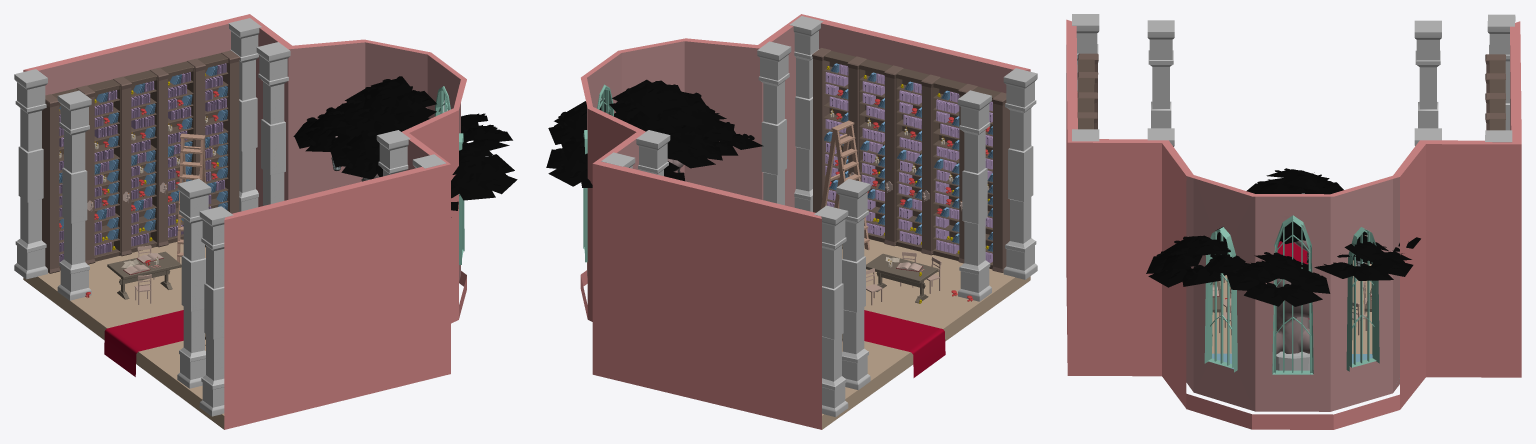
Rendered from library scene.fbx.
3 renders of one model, left to right at view 1: azimuth 30°, elevation 25°; view 2: azimuth 150°, elevation 25°; view 3: azimuth 270°, elevation 25°, orthographic. The views are drawn at different scales.
Visible parts, largest first — view 1: pasted__polySurface77 pasted__polySurface75 pasted__room pas, polySurface1750, Msh_Bookshelf_Left_Msh_Bookshelf1_polySurface1262_polySurfac, polySurface2172, polySurface2168, pPlane29, Floor1, pCube373 polySurface512, polySurface2026 polySurface1825 polySurface374, polySurface1311, polySurface66; view 2: pasted__polySurface77 pasted__polySurface75 pasted__room pas, polySurface1750, Msh_Bookshelf_Left_Msh_Bookshelf1_polySurface1262_polySurfac, polySurface2172, polySurface2168, pPlane29, Floor1, pCube373 polySurface512, polySurface2026 polySurface1825 polySurface374, polySurface1311, polySurface66; view 3: pasted__polySurface77 pasted__polySurface75 pasted__room pas, polySurface2172, pPlane29, polySurface1750, polySurface66, Msh_Bookshelf_Left_Msh_Bookshelf1_polySurface1262_polySurfac, polySurface1751 polySurface275, Floor1, polySurface2026 polySurface1825 polySurface374.
Boxes of the visible parts, bbox=[...] form: pasted__polySurface77 pasted__polySurface75 pasted__room pas: bbox=[23, 14, 466, 429]; polySurface1750: bbox=[14, 18, 446, 416]; Msh_Bookshelf_Left_Msh_Bookshelf1_polySurface1262_polySurfac: bbox=[42, 50, 240, 273]; polySurface2172: bbox=[38, 24, 460, 281]; polySurface2168: bbox=[59, 63, 227, 297]; pPlane29: bbox=[293, 76, 517, 217]; Floor1: bbox=[23, 242, 224, 429]; pCube373 polySurface512: bbox=[104, 310, 183, 376]; polySurface2026 polySurface1825 polySurface374: bbox=[107, 245, 205, 345]; polySurface1311: bbox=[177, 133, 205, 262]; polySurface66: bbox=[434, 86, 464, 264]; pasted__polySurface77 pasted__polySurface75 pasted__room pas: bbox=[580, 14, 1030, 429]; polySurface1750: bbox=[601, 16, 1037, 417]; Msh_Bookshelf_Left_Msh_Bookshelf1_polySurface1262_polySurfac: bbox=[812, 48, 1009, 272]; polySurface2172: bbox=[587, 23, 1013, 277]; polySurface2168: bbox=[824, 63, 992, 303]; pPlane29: bbox=[546, 79, 763, 187]; Floor1: bbox=[822, 239, 1030, 429]; pCube373 polySurface512: bbox=[864, 310, 945, 377]; polySurface2026 polySurface1825 polySurface374: bbox=[842, 244, 941, 341]; polySurface1311: bbox=[820, 120, 869, 249]; polySurface66: bbox=[583, 84, 613, 262]; pasted__polySurface77 pasted__polySurface75 pasted__room pas: bbox=[1066, 19, 1521, 429]; polySurface2172: bbox=[1186, 45, 1511, 411]; pPlane29: bbox=[1146, 168, 1420, 306]; polySurface1750: bbox=[1072, 14, 1515, 370]; polySurface66: bbox=[1204, 215, 1379, 374]; Msh_Bookshelf_Left_Msh_Bookshelf1_polySurface1262_polySurfac: bbox=[1077, 53, 1505, 130]; polySurface1751 polySurface275: bbox=[1272, 235, 1364, 365]; Floor1: bbox=[1212, 260, 1372, 353]; polySurface2026 polySurface1825 polySurface374: bbox=[1212, 235, 1371, 336].
Size of the model in its own units: 136405 by 73950 by 124741.
